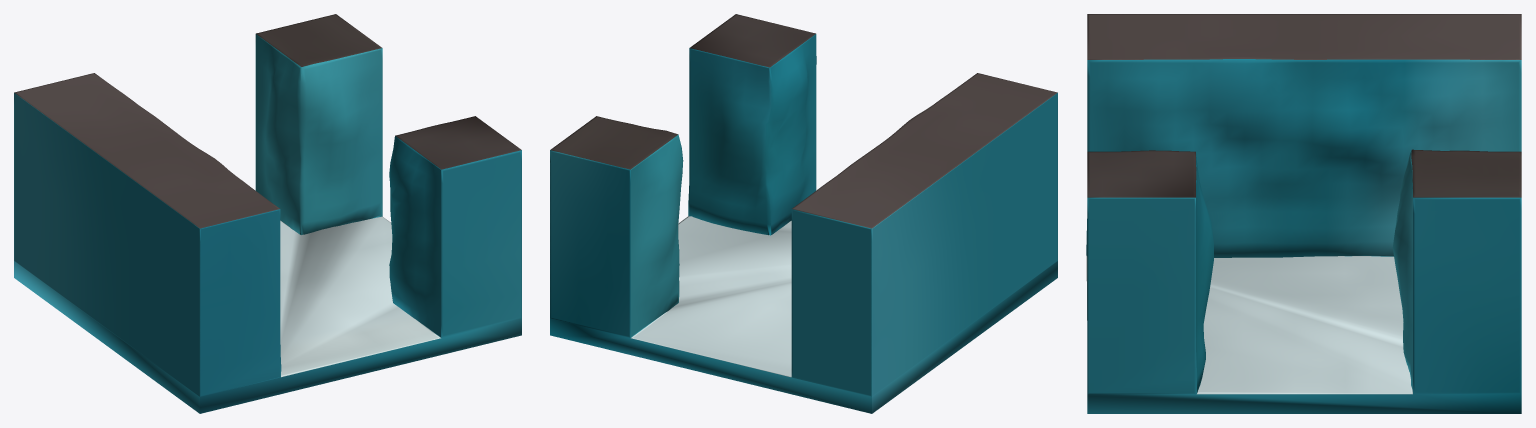
Rendered from Tile_TForm_Ice_v3.fbx.
3 views of the same model, side by side, from view 1: azimuth 30°, elevation 25°; view 2: azimuth 150°, elevation 25°; view 3: azimuth 270°, elevation 25° (orthographic). The views are drawn at different scales.
Parts seen in each view (by area): view 1: TileTForm; view 2: TileTForm; view 3: TileTForm.
Part boxes in pixels (x1,y1,x2,y2): TileTForm: (14,14,521,413); TileTForm: (550,14,1057,413); TileTForm: (1086,14,1521,413).
Size of the model in its own units: 2006 by 1112 by 2005.
Materials: 3 (3 with a texture image).
